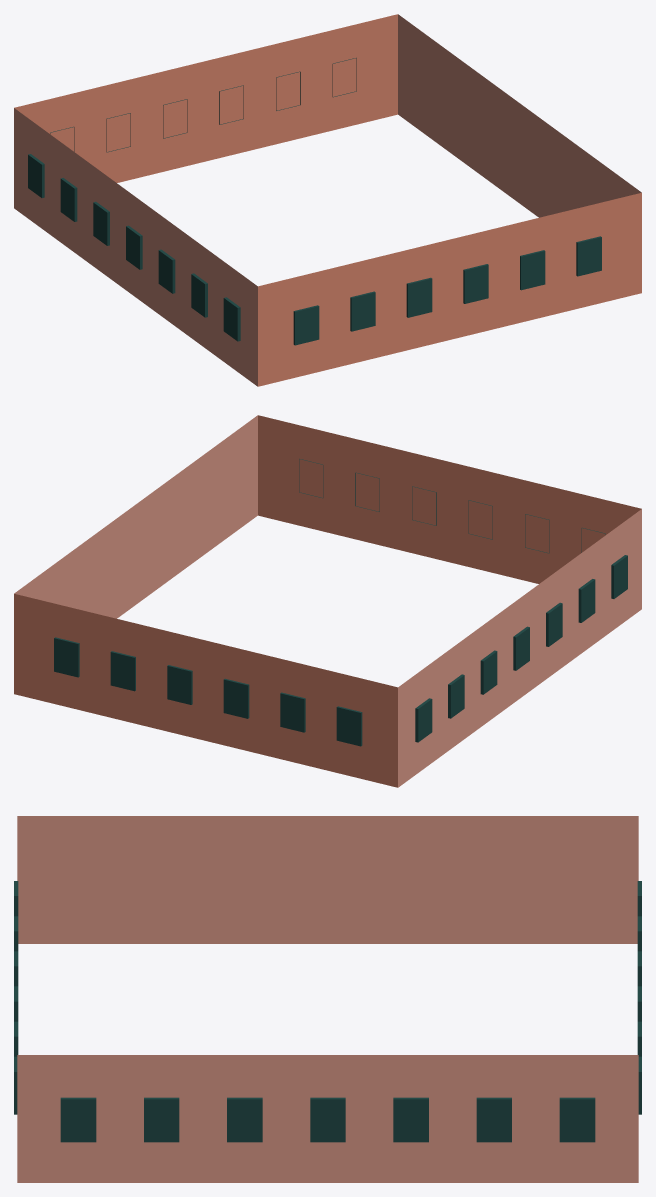
File: TB_CITY_Skysc_S_UpperBodyB_Brown.FBX
3 views of the same model, one above another, from view 1: azimuth 30°, elevation 25°; view 2: azimuth 150°, elevation 25°; view 3: azimuth 270°, elevation 25° (orthographic). The views are drawn at different scales.
Visible parts, largest first — view 1: TB_CITY_Skysc_S_UpperBodyB_Brown; view 2: TB_CITY_Skysc_S_UpperBodyB_Brown; view 3: TB_CITY_Skysc_S_UpperBodyB_Brown.
Boxes of the visible parts, x1,y1,x2,y2 form: TB_CITY_Skysc_S_UpperBodyB_Brown: (14,14,641,386); TB_CITY_Skysc_S_UpperBodyB_Brown: (14,415,641,787); TB_CITY_Skysc_S_UpperBodyB_Brown: (14,816,641,1182).
Bounding box in the file's own units: 20.32 × 5 × 22.23.
